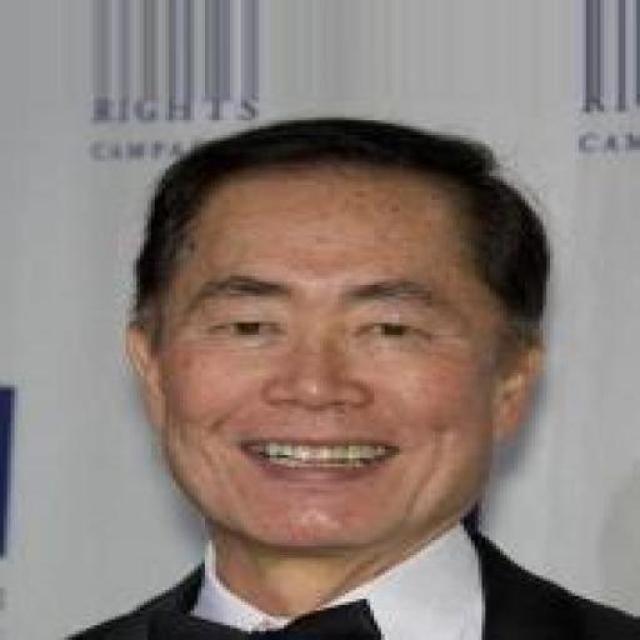bareface: (148, 132, 521, 539)
